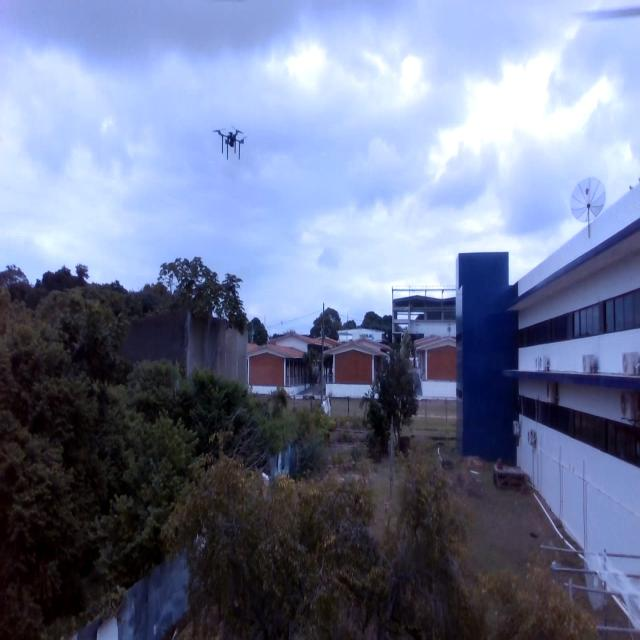-uav-: (212, 111, 248, 163)
